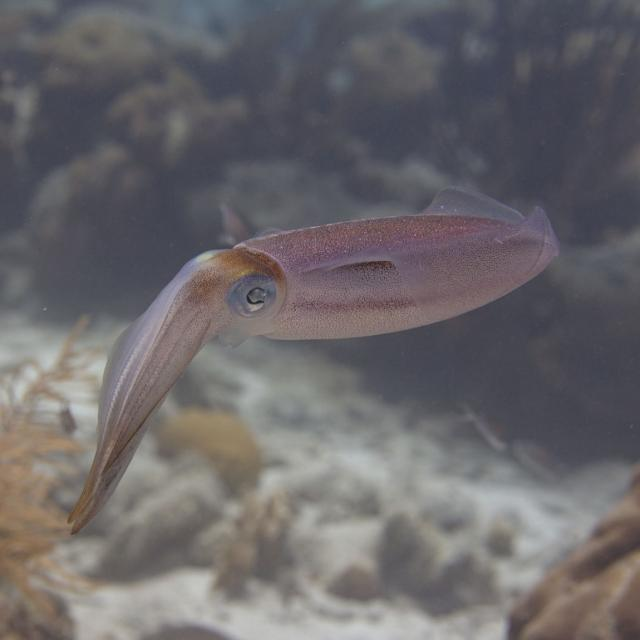SQUID: (41, 189, 606, 542)
